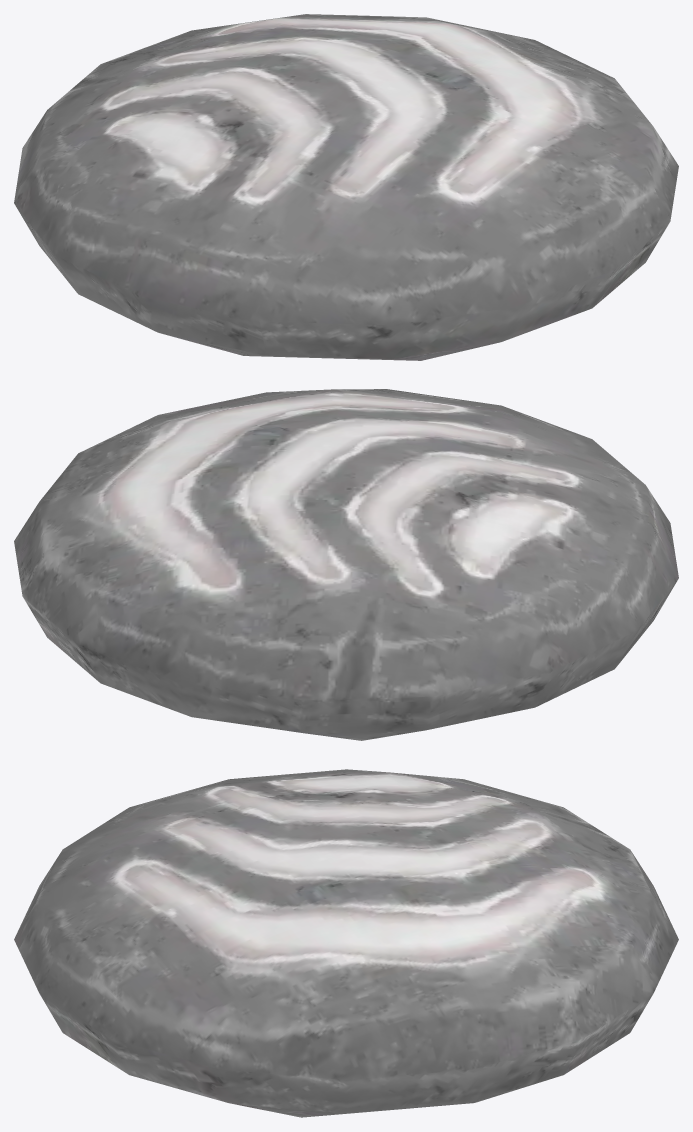
3 renders of one model, top to bottom at view 1: azimuth 30°, elevation 25°; view 2: azimuth 150°, elevation 25°; view 3: azimuth 270°, elevation 25°, orthographic.
Visible parts, largest first — view 1: SM_Air_Rune_01_LOD0; view 2: SM_Air_Rune_01_LOD0; view 3: SM_Air_Rune_01_LOD0.
Part boxes in pixels (x1,y1,x2,y2): SM_Air_Rune_01_LOD0: (14,14,678,360); SM_Air_Rune_01_LOD0: (14,389,678,740); SM_Air_Rune_01_LOD0: (14,769,678,1117).
Size of the model in its own units: 0.2232 by 0.0792 by 0.2232.
Materials: 1 (1 with a texture image).
